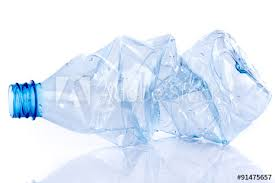bottle: (11, 33, 271, 143)
plastic: (10, 30, 272, 147)
